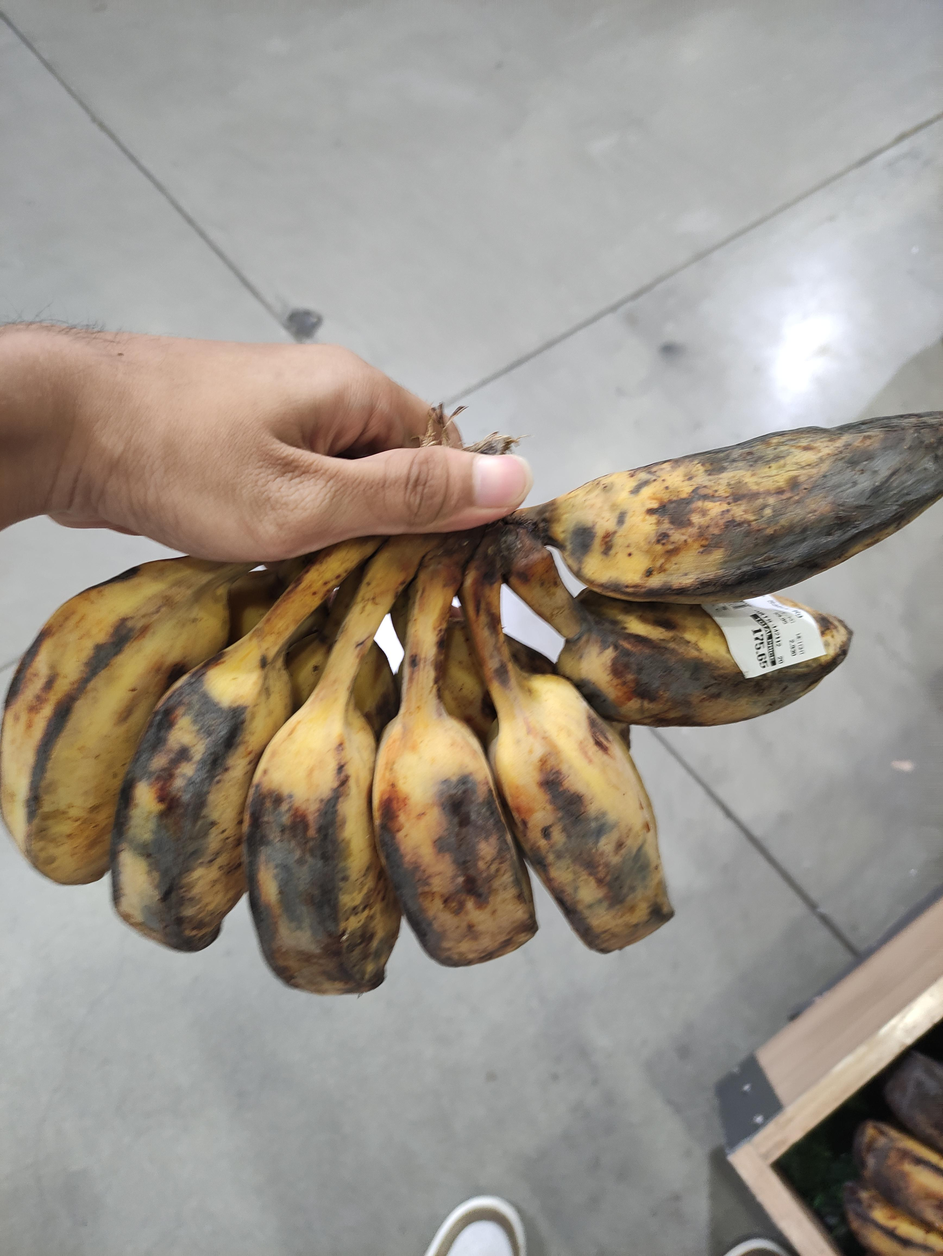ripe: (0, 409, 943, 996)
